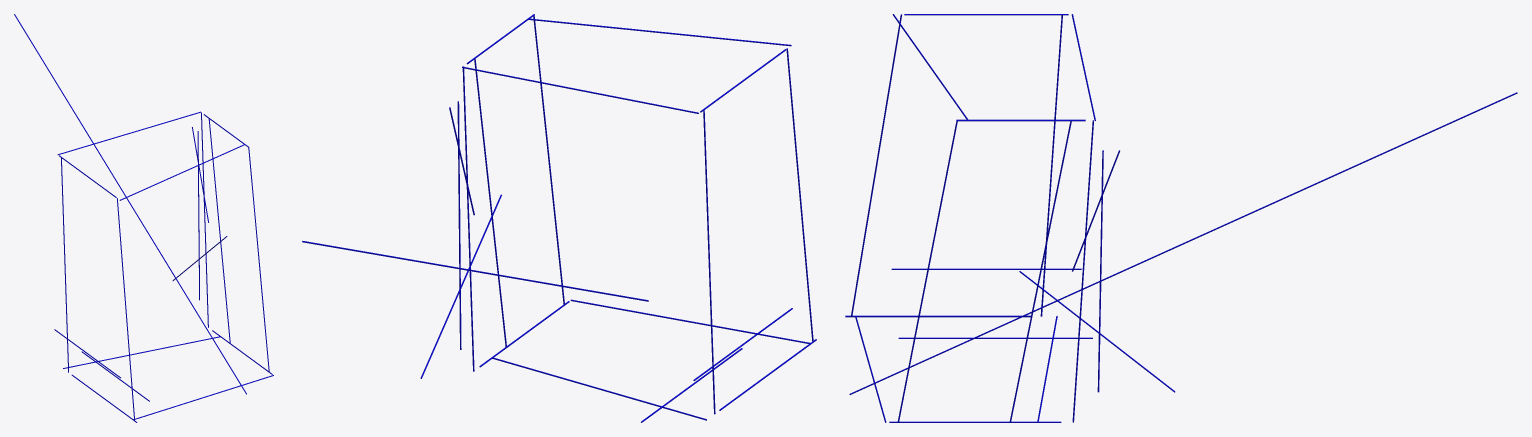
Rendered from corrected_3d_strokes.glb.
The picture shows the model from 3 angles, left to right: view 1: azimuth 30°, elevation 25°; view 2: azimuth 150°, elevation 25°; view 3: azimuth 270°, elevation 25°; orthographic projection. The views are drawn at different scales.
Visible parts, largest first — view 1: world; view 2: world; view 3: world.
Part boxes in pixels (x1=…): world: x1=14, y1=14, x2=273, y2=422; world: x1=302, y1=14, x2=816, y2=422; world: x1=845, y1=14, x2=1517, y2=422.
Size of the model in its own units: 6.61 by 8.77 by 17.64.
